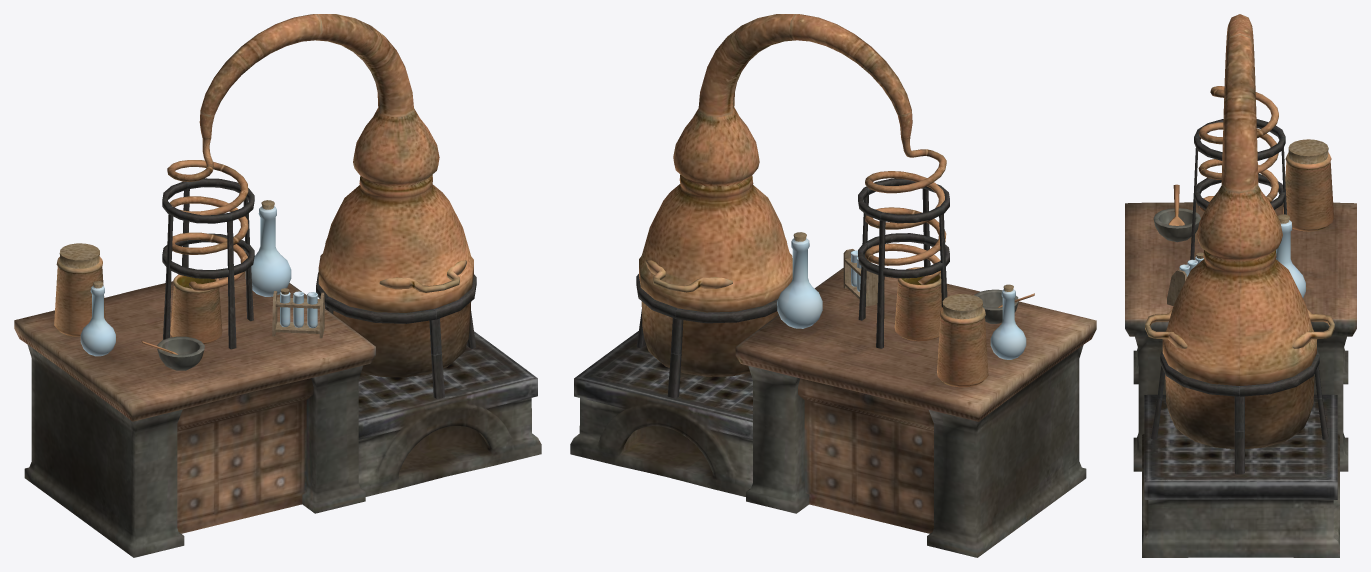
The model's file is laboratory.glb.
3 renders of one model, left to right at view 1: azimuth 30°, elevation 25°; view 2: azimuth 150°, elevation 25°; view 3: azimuth 270°, elevation 25°, orthographic.
Parts seen in each view (by area): view 1: npc_props_distillery_01; view 2: npc_props_distillery_01; view 3: npc_props_distillery_01.
Part boxes in pixels (x1,y1,x2,y2): npc_props_distillery_01: [14, 14, 541, 557]; npc_props_distillery_01: [570, 14, 1096, 557]; npc_props_distillery_01: [1125, 14, 1356, 557].
Bounding box in the file's own units: 2.94 × 3 × 1.43.
1 material, 1 textured.
